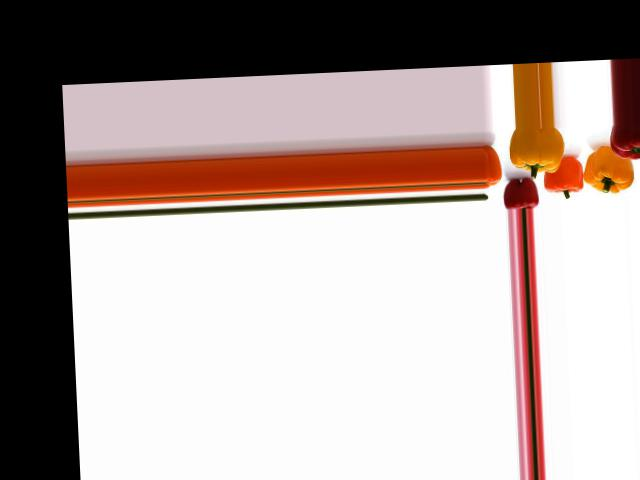bell_pepper: (481, 144, 504, 189)
